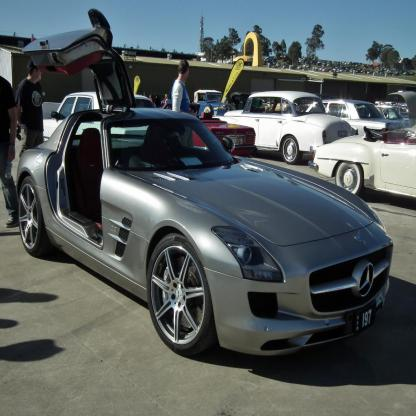Car: (16, 7, 394, 358), (213, 90, 352, 165), (309, 124, 415, 206), (42, 92, 156, 142), (162, 109, 256, 157), (304, 99, 404, 134)
